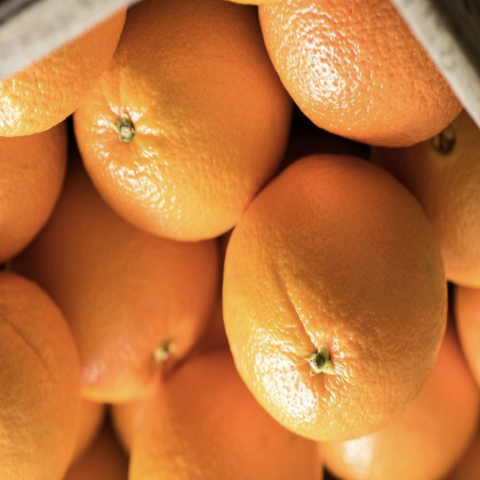orange: (209, 143, 455, 468), (58, 0, 303, 269)
